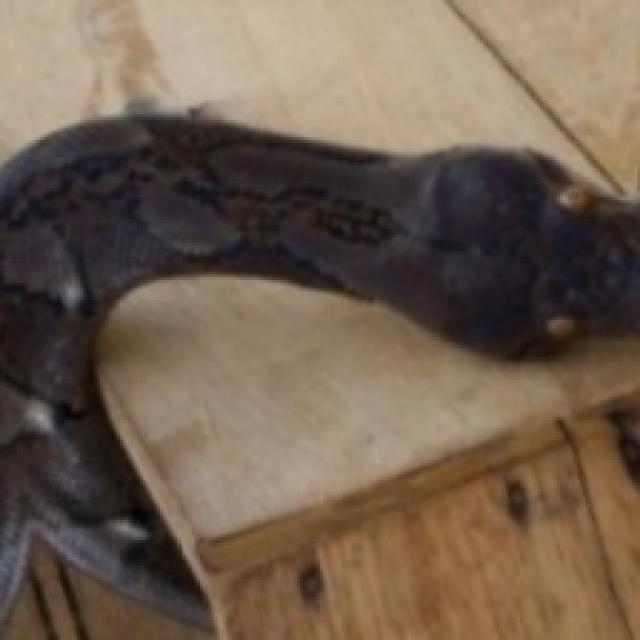reticulated python: (0, 114, 637, 637)
